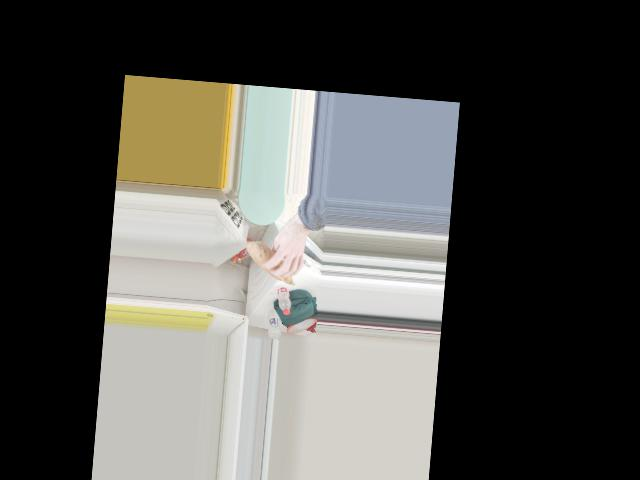sweet_potato: (247, 242, 302, 284)
